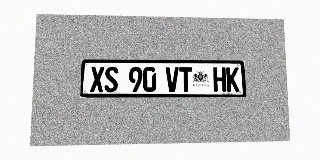0: (143, 67, 156, 92)
9: (129, 67, 142, 92)
H: (213, 67, 226, 92)
K: (226, 67, 239, 92)
S: (104, 67, 118, 92)
T: (179, 67, 192, 92)
V: (166, 67, 179, 92)
X: (90, 67, 104, 92)
